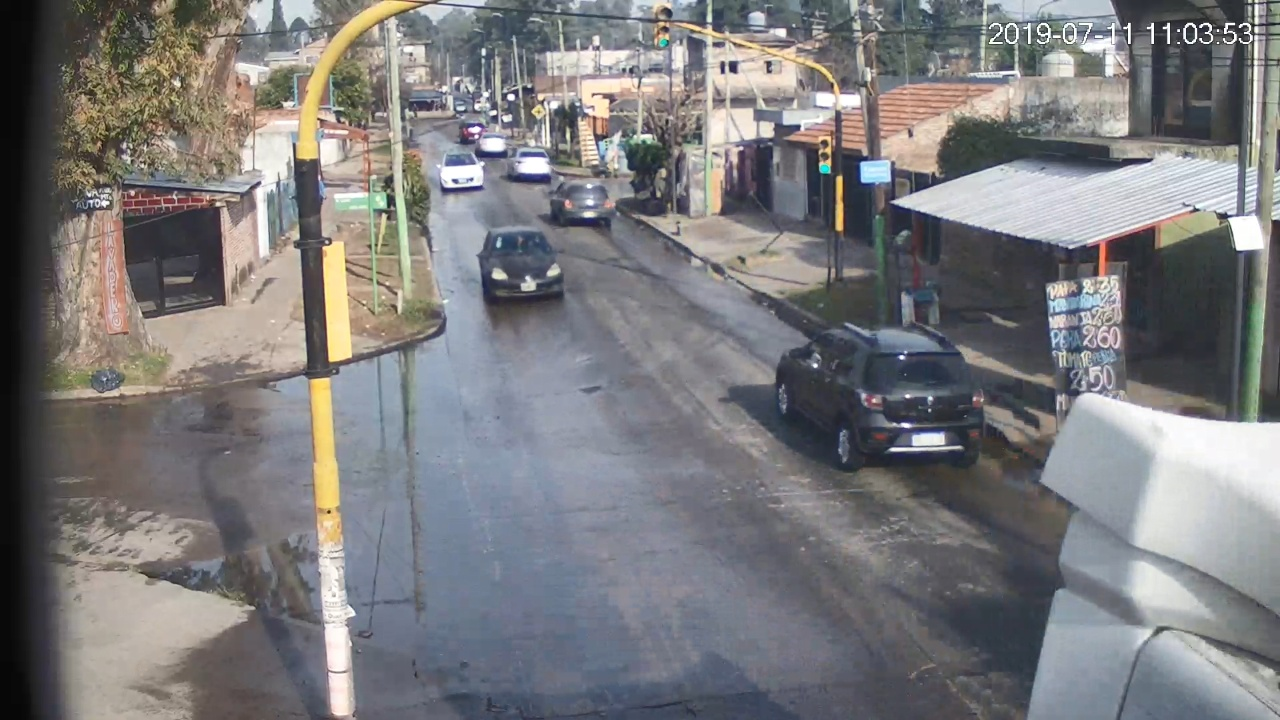car: (775, 322, 984, 473)
front car: (477, 226, 564, 304), (437, 152, 485, 190)
traffic light: (655, 5, 670, 50), (818, 137, 831, 174)
